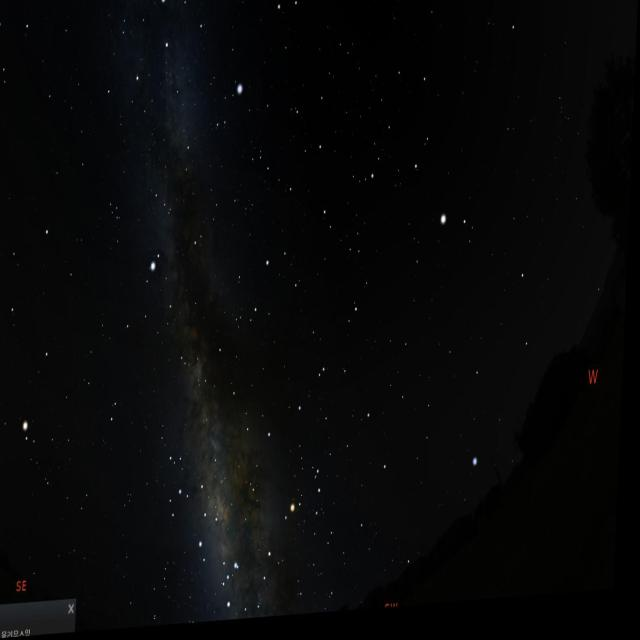aquila: (121, 238, 212, 392)
bootes: (384, 63, 488, 271)
cygnus: (115, 0, 209, 178)
lyra: (209, 78, 251, 140)
sagittarius: (156, 444, 225, 568)
scorpius: (222, 457, 341, 624)
